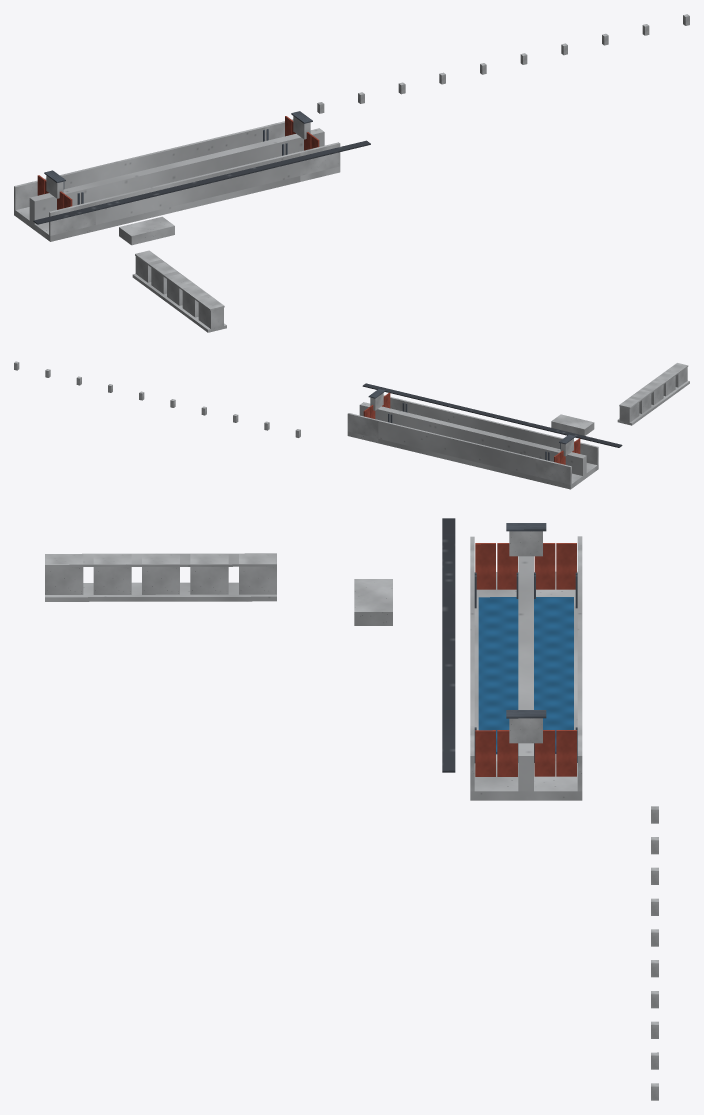
The model's file is qingnian-z3-lock.glb.
The picture shows the model from 3 angles, top to bottom: view 1: azimuth 30°, elevation 25°; view 2: azimuth 150°, elevation 25°; view 3: azimuth 270°, elevation 25°; orthographic projection. The views are drawn at different scales.
Parts seen in each view (by area): view 1: QIN_LOCK_middike_01, QIN_LOCK_wallR_chamber_01, QIN_LOCK_wallL_chamber_01, QIN_SITE_road_01, QIN_LOCK_slab_chamber_01, QIN_SITE_admin_01, QIN_LOCK_wallR_head_up_01, QIN_LOCK_wallR_head_dn_01, QIN_LOCK_slab_head_up_01, QIN_SLUICE_pier_05, QIN_SLUICE_slab_01, QIN_SLUICE_bridge_01 (+1 smaller); view 2: QIN_LOCK_middike_01, QIN_LOCK_wallL_chamber_01, QIN_LOCK_wallR_chamber_01, QIN_SITE_road_01, QIN_LOCK_slab_chamber_01, QIN_LOCK_wallL_head_up_01, QIN_SITE_admin_01, QIN_LOCK_wallL_head_dn_01, QIN_LOCK_slab_head_up_01, QIN_SLUICE_pier_01, QIN_SLUICE_slab_01, QIN_SLUICE_bridge_01 (+5 smaller); view 3: QIN_LOCK_water_chamber_01, QIN_SITE_road_01, QIN_LOCK_middike_01, QIN_LOCK_slab_head_dn_01, QIN_SLUICE_slab_01, QIN_SITE_admin_01, QIN_SLUICE_pier_05, QIN_SLUICE_pier_04, QIN_SLUICE_bridge_01, QIN_SLUICE_pier_01, QIN_SLUICE_pier_02, QIN_SLUICE_pier_03 (+12 smaller).
Boxes of the visible parts, box(x1,y1,x2,y2) form: QIN_LOCK_middike_01: box(29, 128, 324, 224); QIN_LOCK_wallR_chamber_01: box(95, 152, 300, 224); QIN_LOCK_wallL_chamber_01: box(60, 126, 265, 189); QIN_SITE_road_01: box(33, 140, 370, 224); QIN_LOCK_slab_chamber_01: box(96, 176, 300, 230); QIN_SITE_admin_01: box(119, 216, 174, 245); QIN_LOCK_wallR_head_up_01: box(49, 201, 95, 235); QIN_LOCK_wallR_head_dn_01: box(299, 142, 340, 175); QIN_LOCK_slab_head_up_01: box(14, 207, 95, 241); QIN_SLUICE_pier_05: box(198, 297, 223, 331); QIN_SLUICE_slab_01: box(132, 273, 226, 332); QIN_SLUICE_bridge_01: box(135, 250, 224, 310); QIN_LOCK_middike_01: box(359, 402, 586, 475); QIN_LOCK_wallL_chamber_01: box(378, 420, 535, 476); QIN_LOCK_wallR_chamber_01: box(405, 400, 562, 448); QIN_SITE_road_01: box(362, 383, 622, 447); QIN_LOCK_slab_chamber_01: box(378, 439, 535, 480); QIN_LOCK_wallL_head_up_01: box(535, 458, 571, 484); QIN_SITE_admin_01: box(551, 414, 594, 435); QIN_LOCK_wallL_head_dn_01: box(347, 413, 378, 438); QIN_LOCK_slab_head_up_01: box(535, 463, 598, 489); QIN_SLUICE_pier_01: box(619, 398, 639, 424); QIN_SLUICE_slab_01: box(617, 381, 689, 425); QIN_SLUICE_bridge_01: box(619, 363, 688, 408); QIN_LOCK_water_chamber_01: box(478, 597, 573, 754); QIN_SITE_road_01: box(442, 518, 455, 772); QIN_LOCK_middike_01: box(518, 556, 533, 791); QIN_LOCK_slab_head_dn_01: box(470, 761, 582, 800); QIN_SLUICE_slab_01: box(45, 582, 276, 601); QIN_SITE_admin_01: box(354, 579, 392, 625); QIN_SLUICE_pier_05: box(45, 554, 83, 594); QIN_SLUICE_pier_04: box(93, 554, 131, 594); QIN_SLUICE_bridge_01: box(45, 553, 276, 567); QIN_SLUICE_pier_01: box(239, 554, 276, 594); QIN_SLUICE_pier_02: box(190, 554, 228, 594); QIN_SLUICE_pier_03: box(142, 554, 179, 594).
Size of the model in its own units: 994 by 63.46 by 476.
5 materials, 5 textured.
